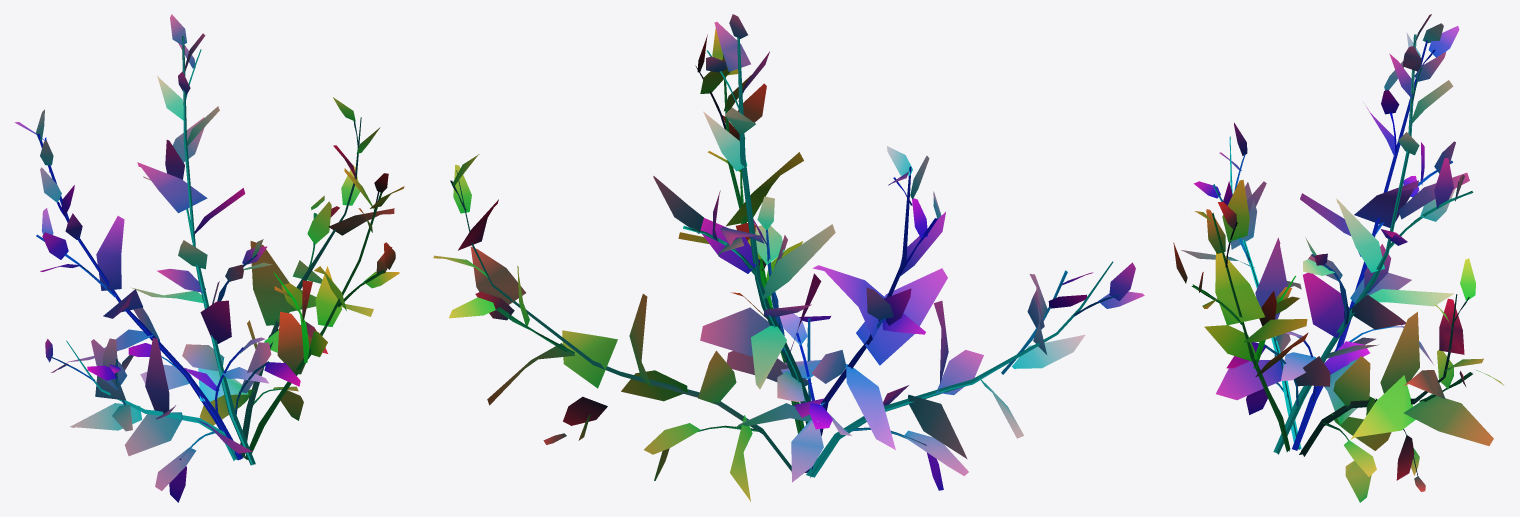
The model's file is Creeping_Saltbush_thckfiqr_Mid_thckfiqr_VarB_LOD1.fbx.
3 views of the same model, side by side, from view 1: azimuth 30°, elevation 25°; view 2: azimuth 150°, elevation 25°; view 3: azimuth 270°, elevation 25° (orthographic). The views are drawn at different scales.
Visible parts, largest first — view 1: _9b83_VarB_LOD2; view 2: _9b83_VarB_LOD2; view 3: _9b83_VarB_LOD2.
Boxes of the visible parts, x1=… form: _9b83_VarB_LOD2: x1=14, y1=14, x2=404, y2=502; _9b83_VarB_LOD2: x1=433, y1=14, x2=1144, y2=501; _9b83_VarB_LOD2: x1=1173, y1=14, x2=1504, y2=502.
Bounding box in the file's own units: 44.73 × 40.5 × 27.56.
